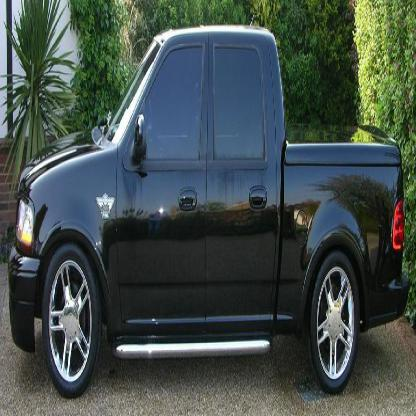Truck: (8, 25, 410, 398)
